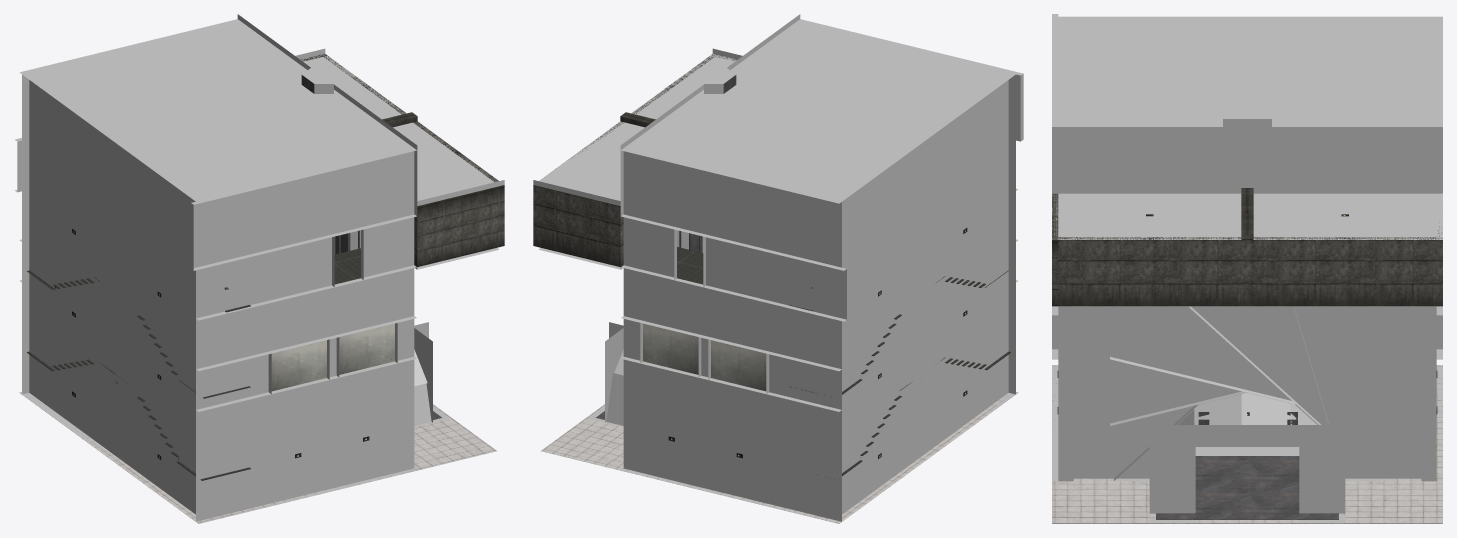
The model's file is HC_cont2_testroom.gltf.
3 renders of one model, left to right at view 1: azimuth 30°, elevation 25°; view 2: azimuth 150°, elevation 25°; view 3: azimuth 270°, elevation 25°, orthographic. The views are drawn at different scales.
Parts seen in each view (by area): view 1: HC_cont2_testroom; view 2: HC_cont2_testroom; view 3: HC_cont2_testroom.
Part boxes in pixels (<box>): HC_cont2_testroom: <box>14,14,504,523</box>; HC_cont2_testroom: <box>533,14,1023,523</box>; HC_cont2_testroom: <box>1052,14,1442,523</box>.
Size of the model in its own units: 20.48 by 20.81 by 20.48.
